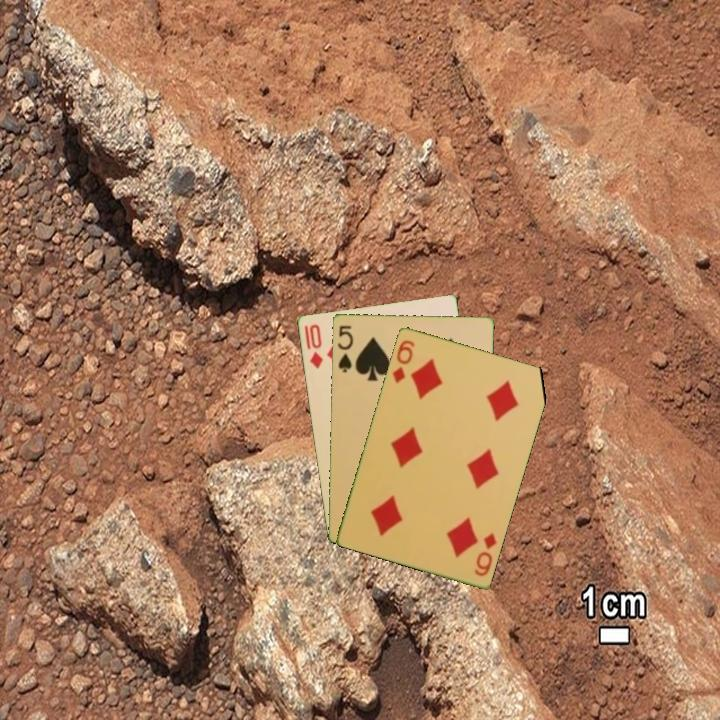10d: (306, 320, 325, 372)
5s: (334, 322, 356, 375)
6d: (388, 336, 417, 386), (471, 529, 499, 579)
